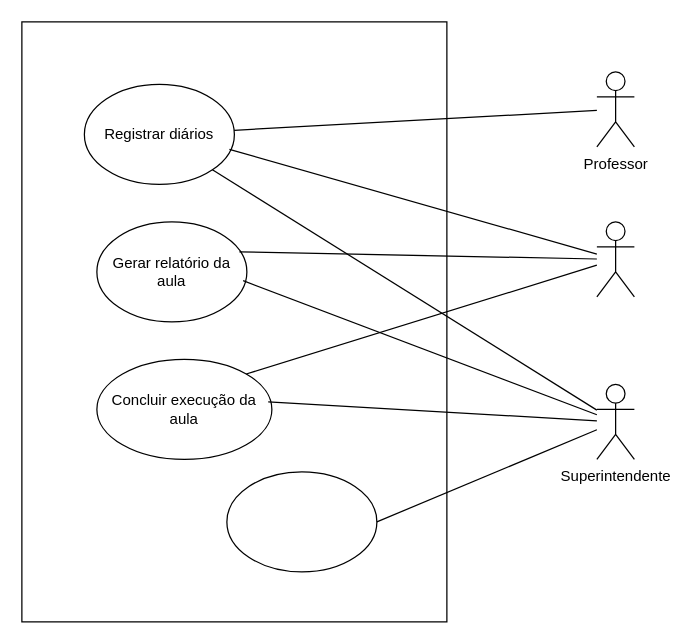
The diagram is 693 pixels wide and 644 high, and some of its shapes have lost their labels. The box of each missing label's shape, as (x1, y1, x2, y2) in pixels:
Cadastro de professor: (226, 471, 377, 572)
Secretário: (596, 221, 634, 297)
